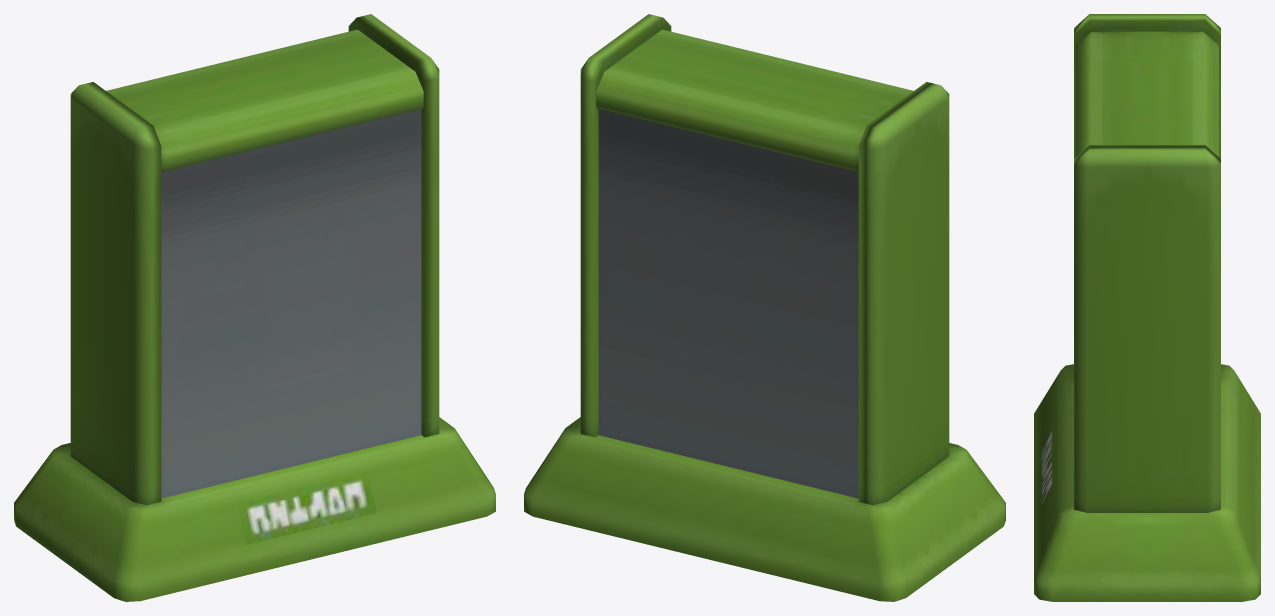
The picture shows the model from 3 angles, left to right: view 1: azimuth 30°, elevation 25°; view 2: azimuth 150°, elevation 25°; view 3: azimuth 270°, elevation 25°; orthographic projection. The views are drawn at different scales.
Size of the model in its own units: 6.63 by 7.4 by 3.55.
Materials: 4 (4 with a texture image).
